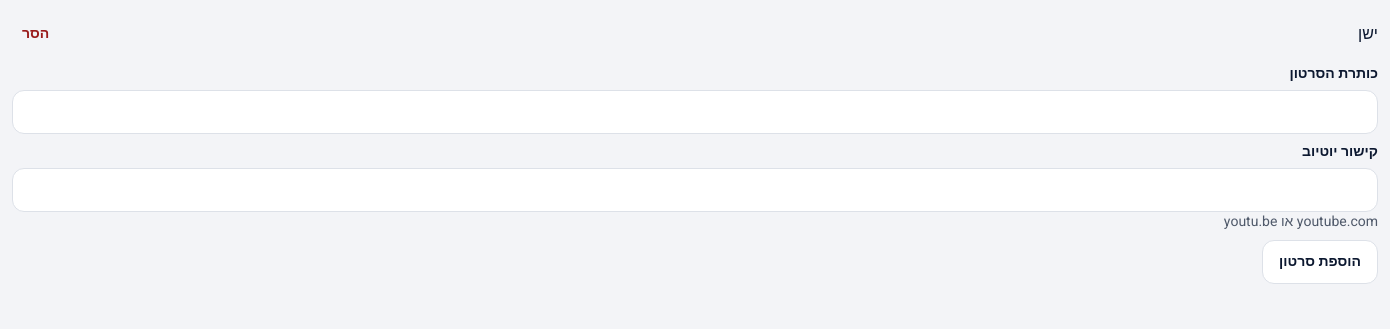
Test: PlayerVideosEditor › shows the server message on 409 (video cap)
Type "חדש" into the field labelled "כותרת הסרטון" at x=695, y=112, box [12, 90, 1378, 134]
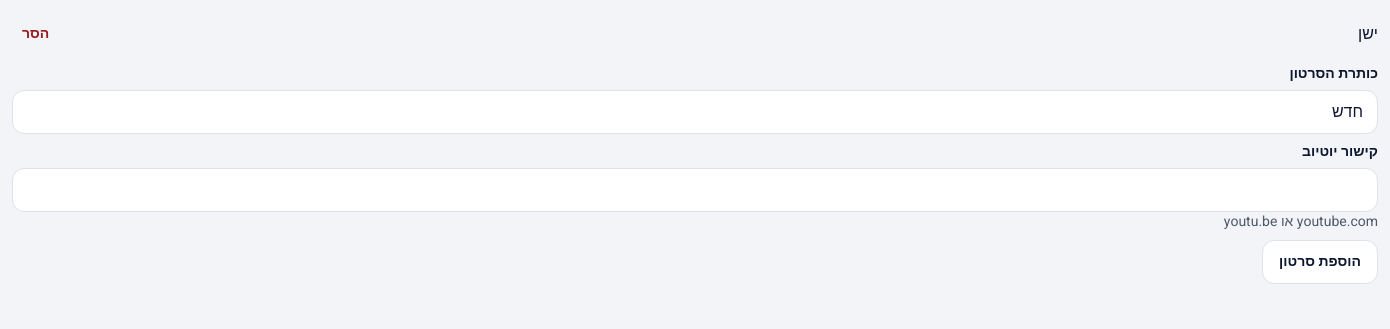
Type "https://youtu.be/aaaaaaaaaaa" into the field labelled "קישור יוטיוב" at x=695, y=190, box [12, 168, 1378, 212]
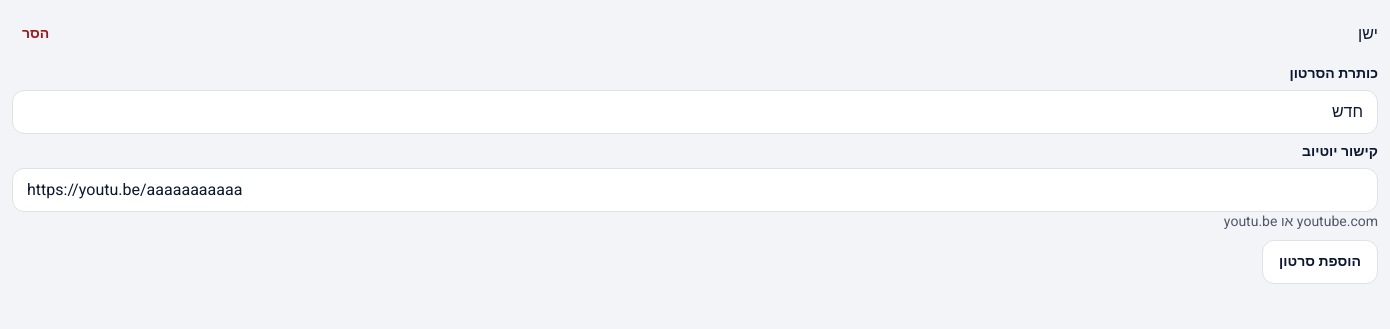
Click the button with test id "add-video" at x=1320, y=262, box [1262, 240, 1378, 284]
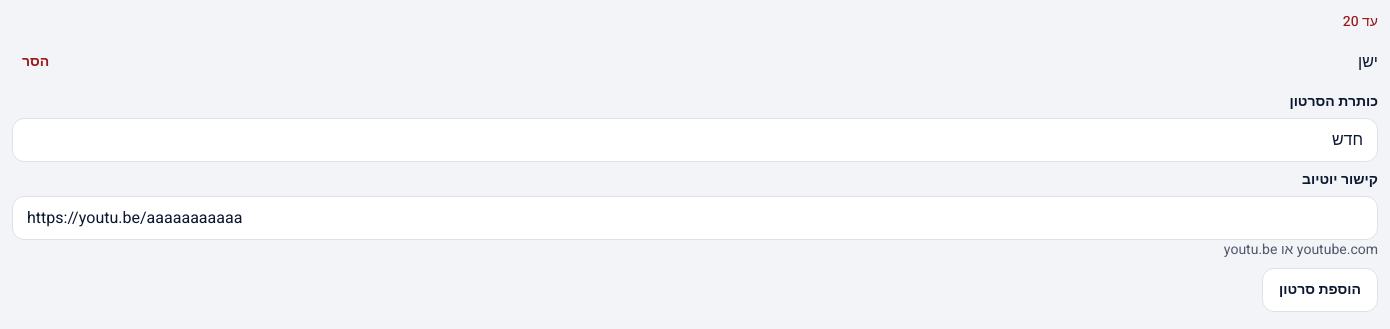
Now the message "עד 20" is shown, box [1343, 11, 1378, 32]
